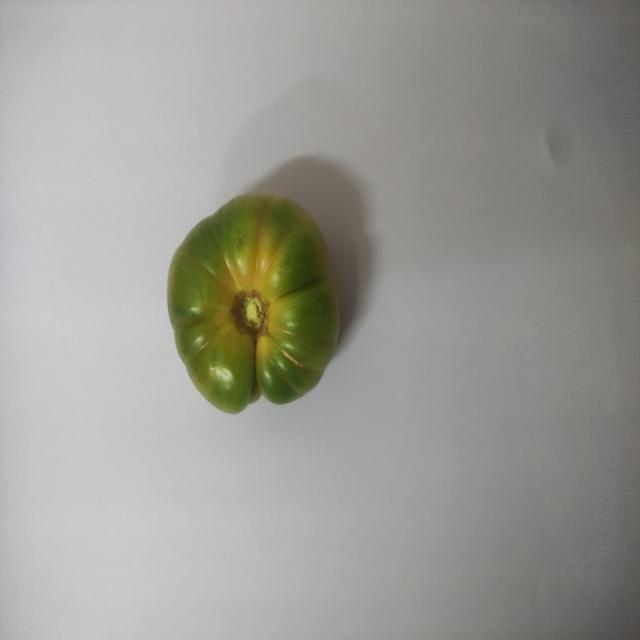yesil: (156, 175, 353, 424)
